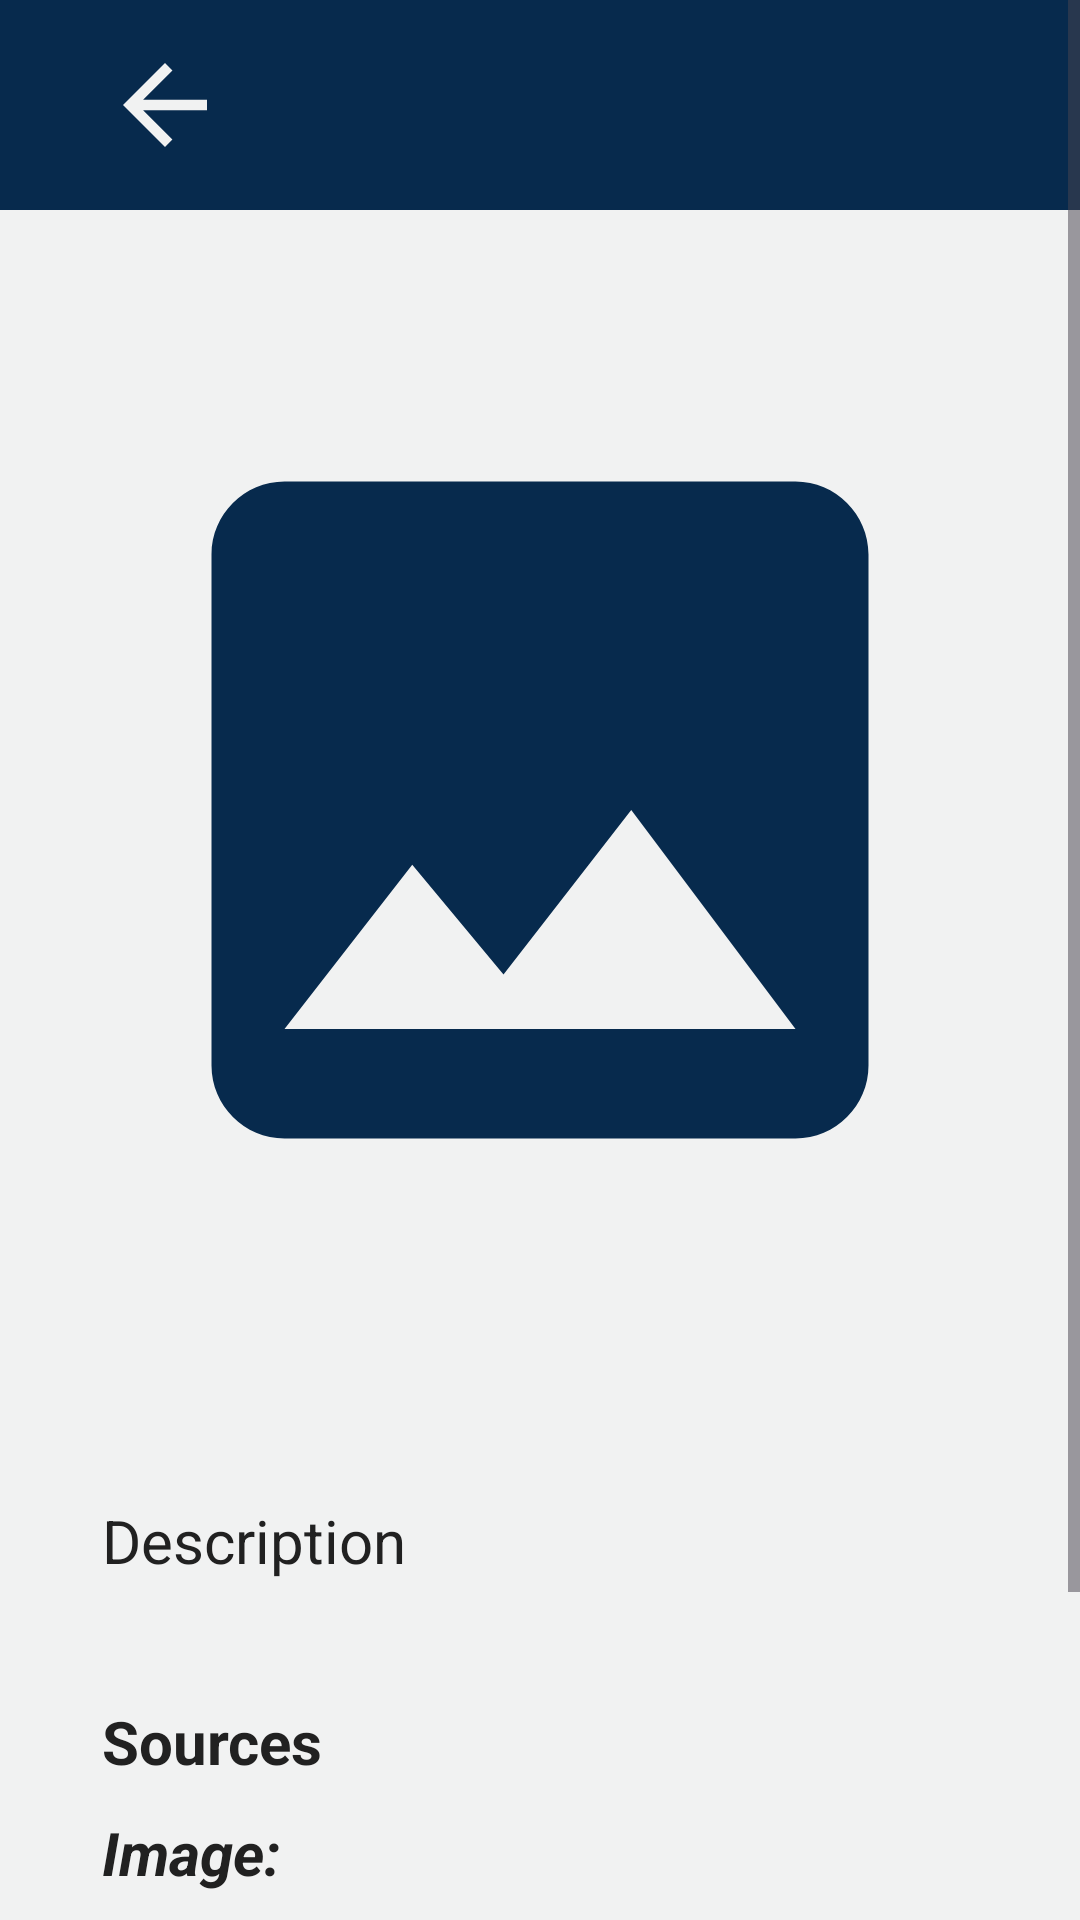

Icons on this 1080*1920 Android screen, each with the point to tap as point (x, y):
back: point (165, 105)
